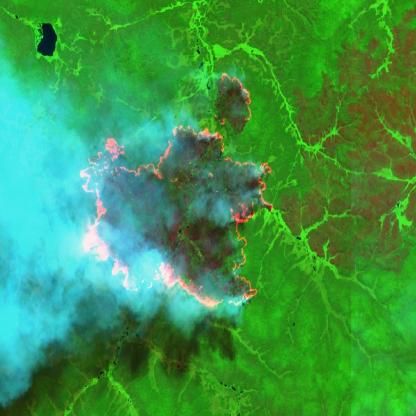fire: (75, 66, 278, 314)
